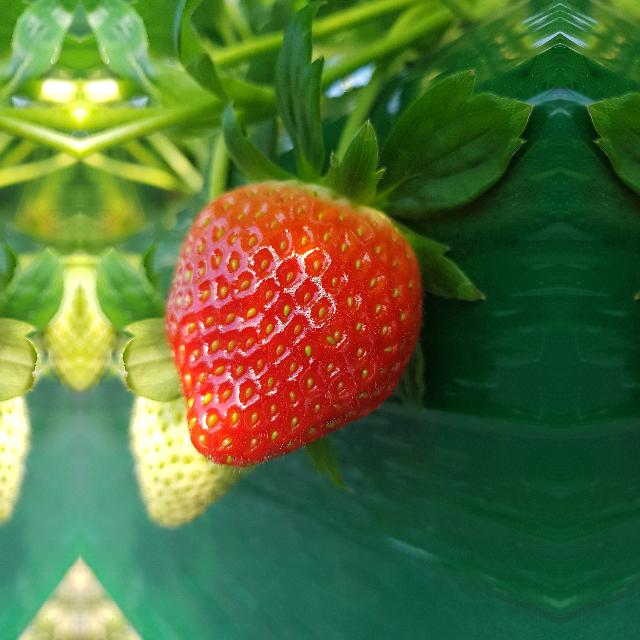Health_100: (163, 177, 423, 467)
